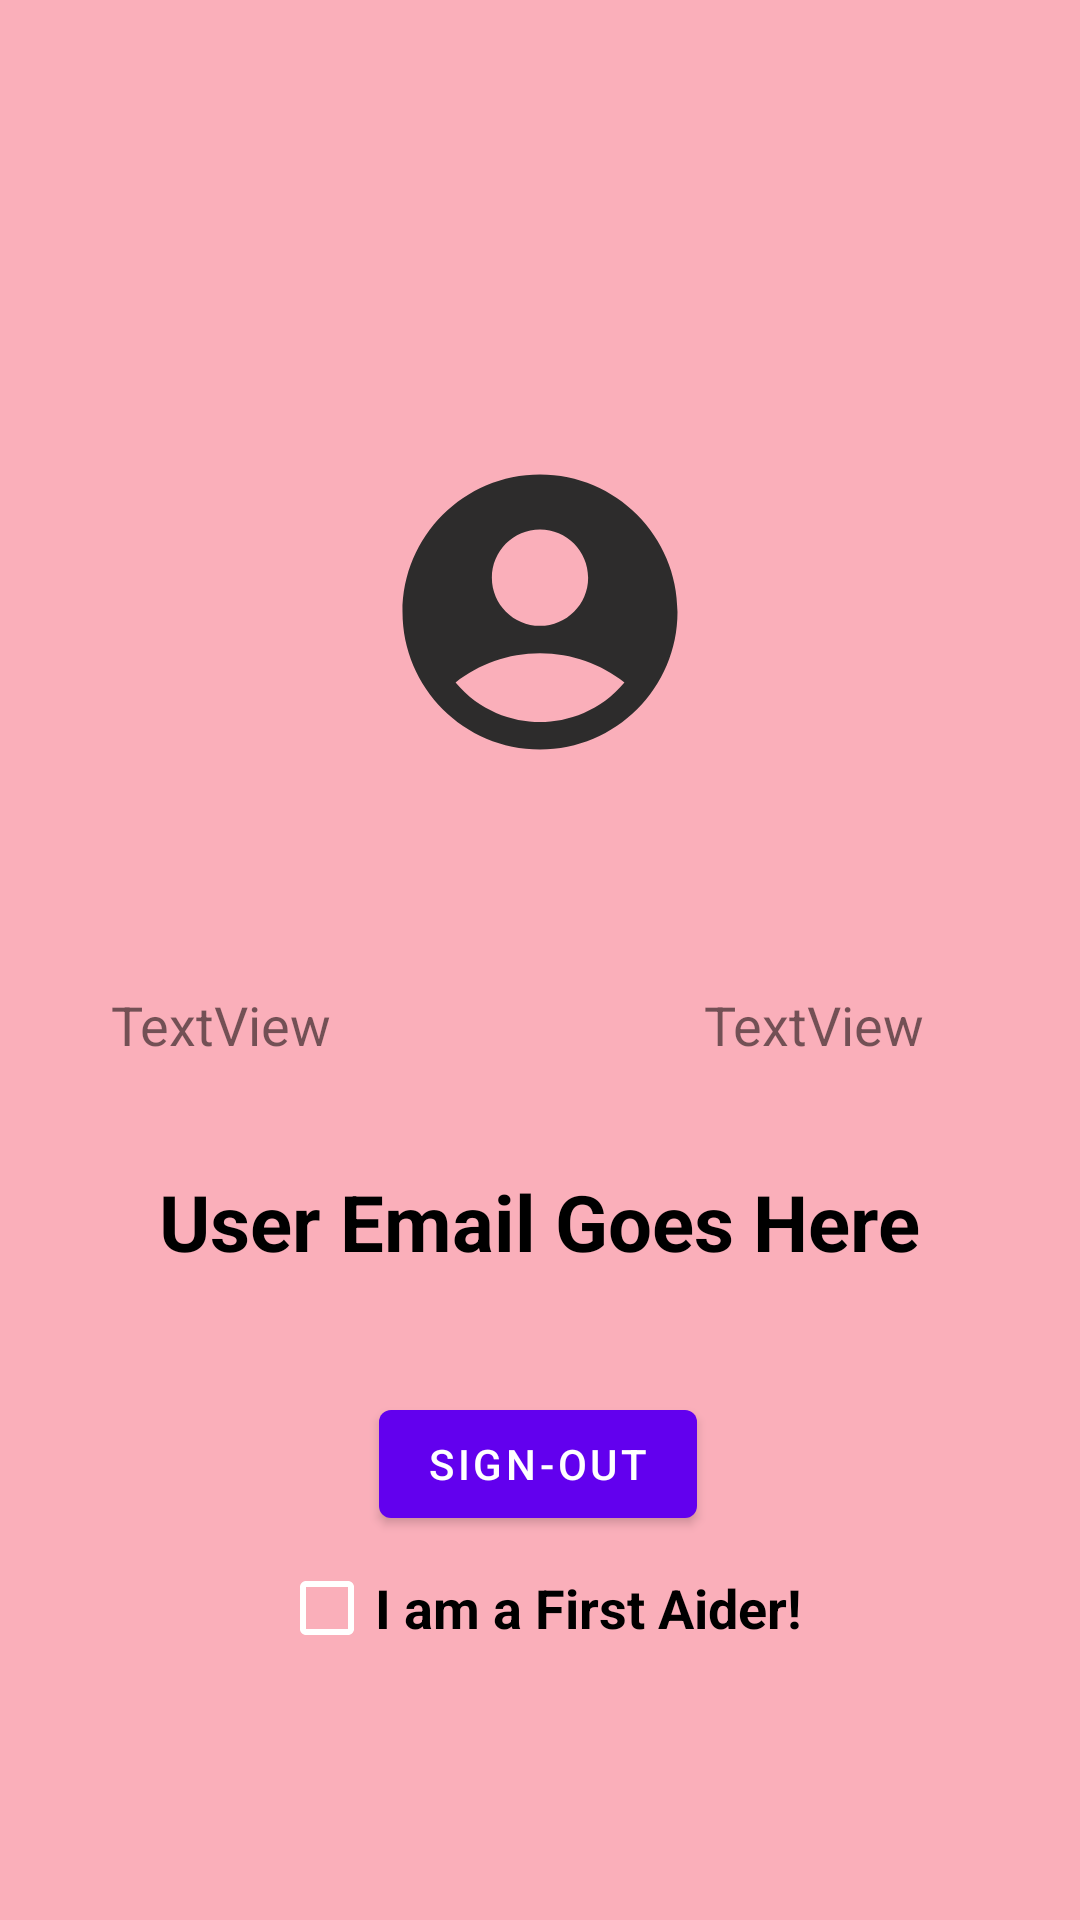

Icons on this 1080 × 1920 Android screen, each with the point to tap as [x,y]:
account circle: [540,612]
